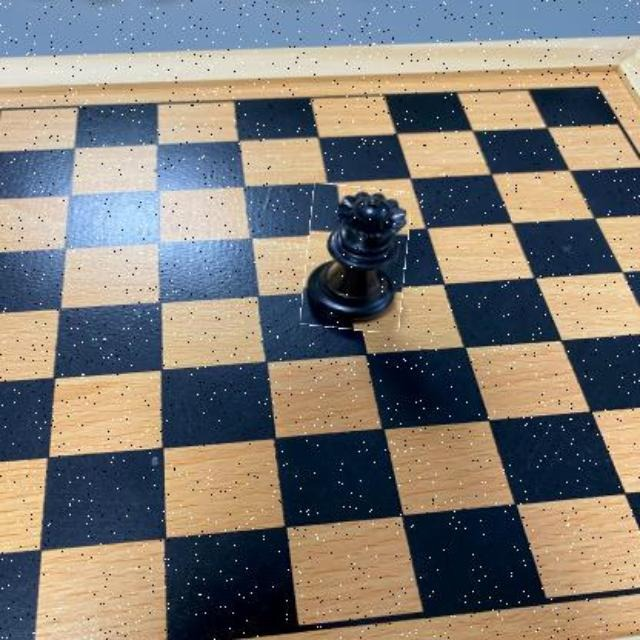black-queen: (305, 185, 409, 331)
